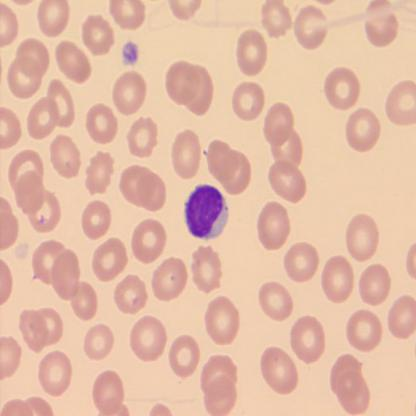Lymphocyte: (184, 183, 230, 241)
